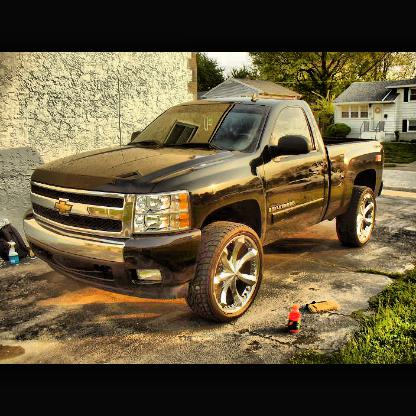Chevrolet Silverado 1500 Regular Cab 2012: (24, 95, 386, 325)
